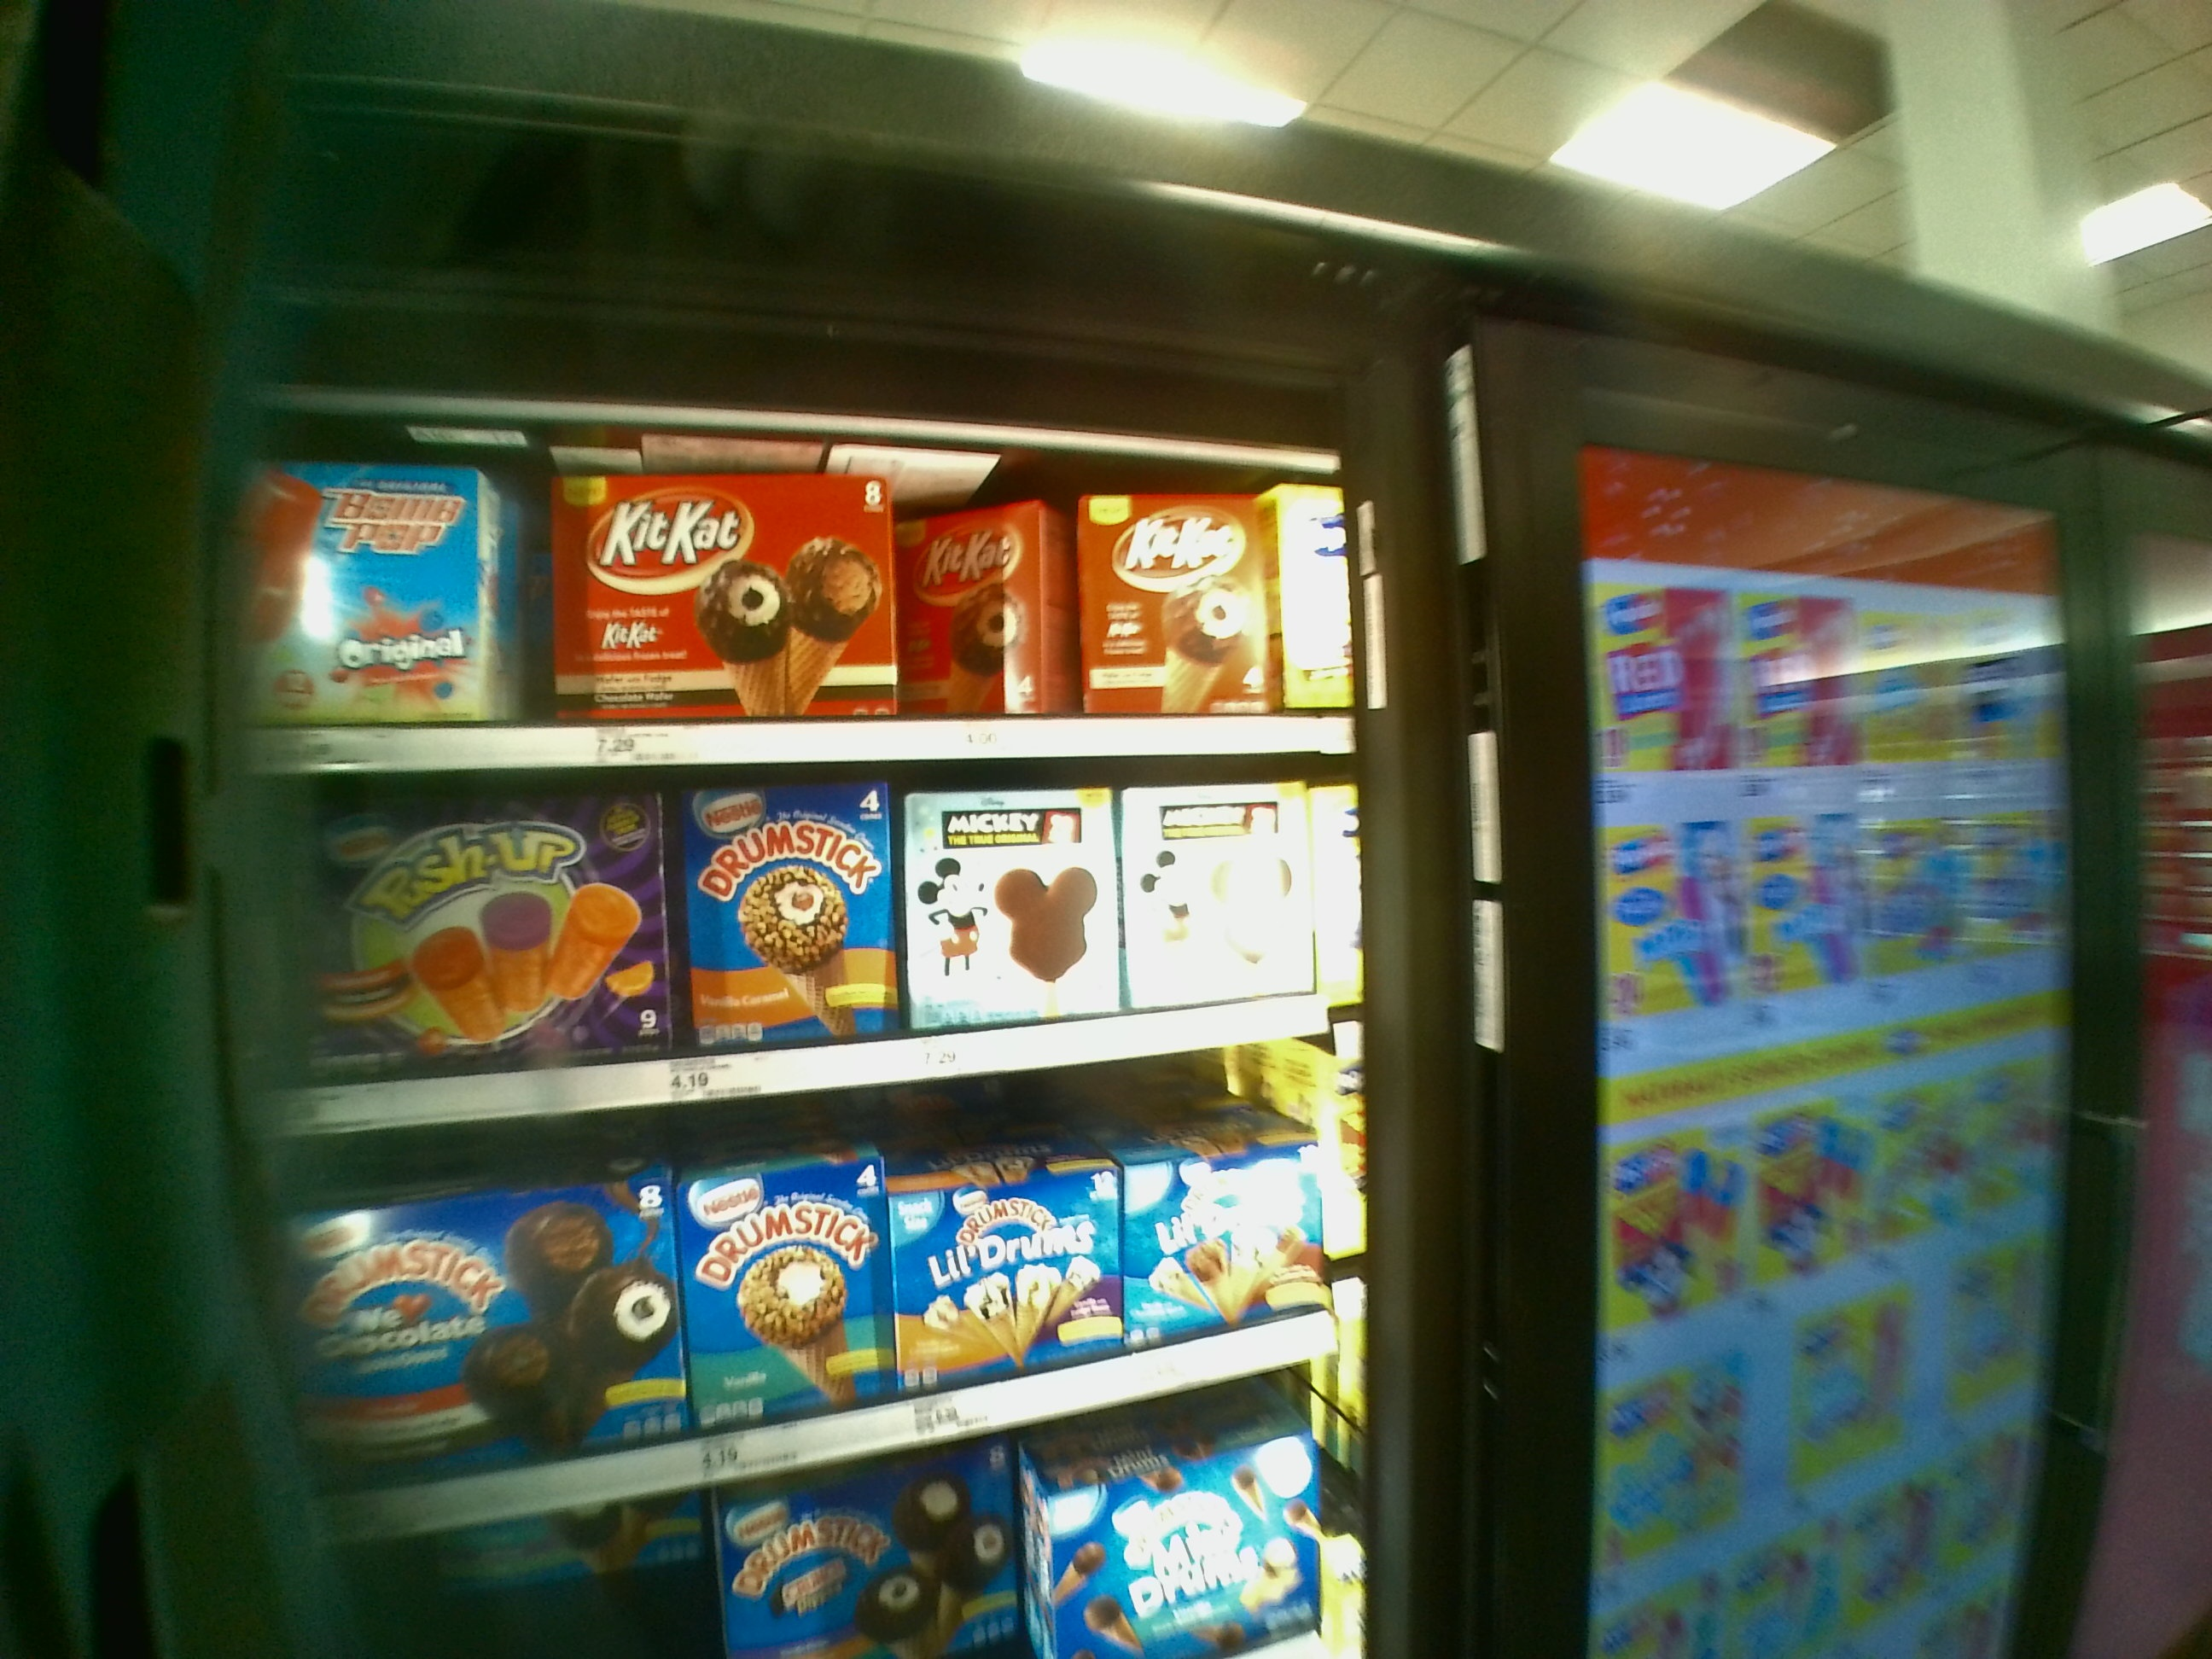shelf: (270, 1094, 1362, 1486), (218, 403, 1353, 767), (226, 758, 1359, 1105)
